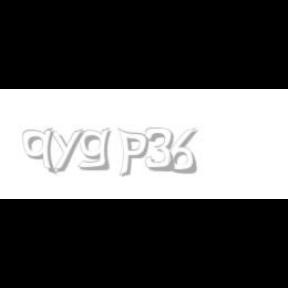3: (146, 128, 176, 172)
6: (168, 128, 198, 176)
P: (117, 128, 149, 178)
g: (78, 128, 114, 171)
q: (22, 128, 58, 176)
y: (48, 128, 88, 172)
